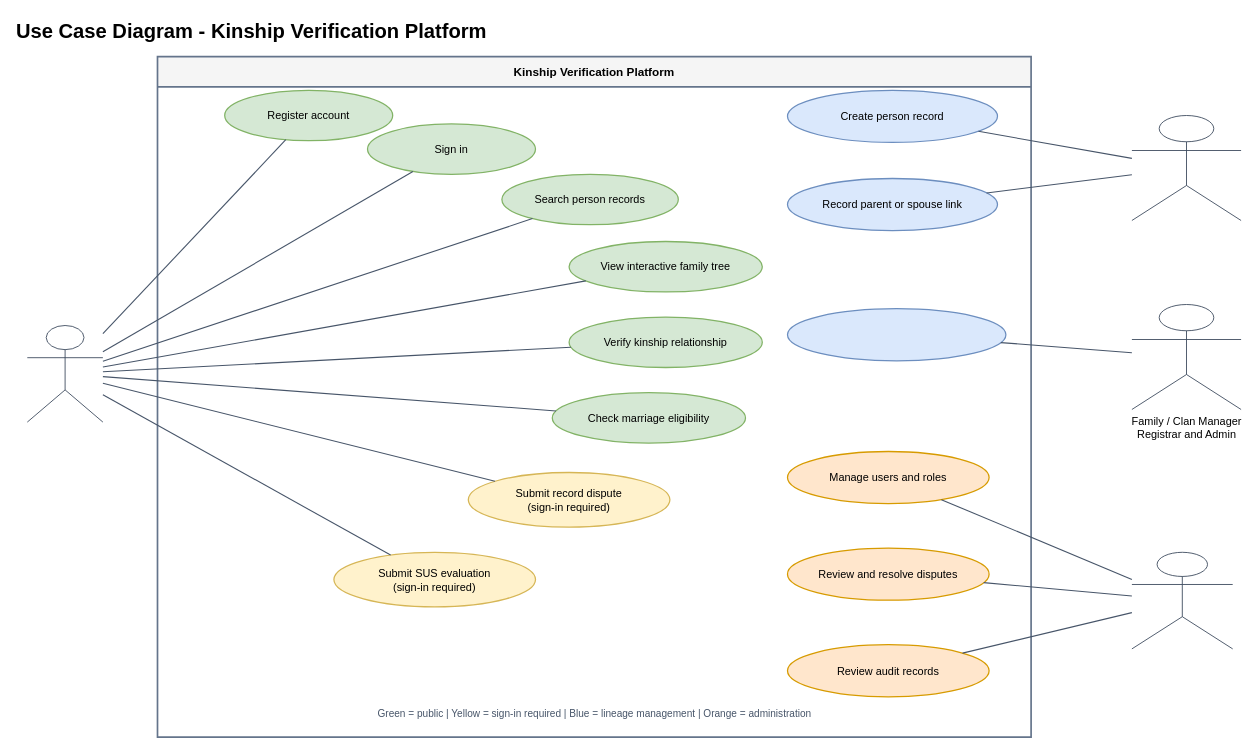
The diagram is 1256 pixels wide and 752 high, and some of its shapes have lost their labels. The shapes that lost their labels are listed below. From the top down, each one's centre as x and y in pixels, then its label:
At pixel 1186 167: "Lineage Recorder Registrar, Elder, Admin".
At pixel 896 334: "Create or update families and clans".
At pixel 64 373: "Community User".
At pixel 1182 600: "Administrator".
